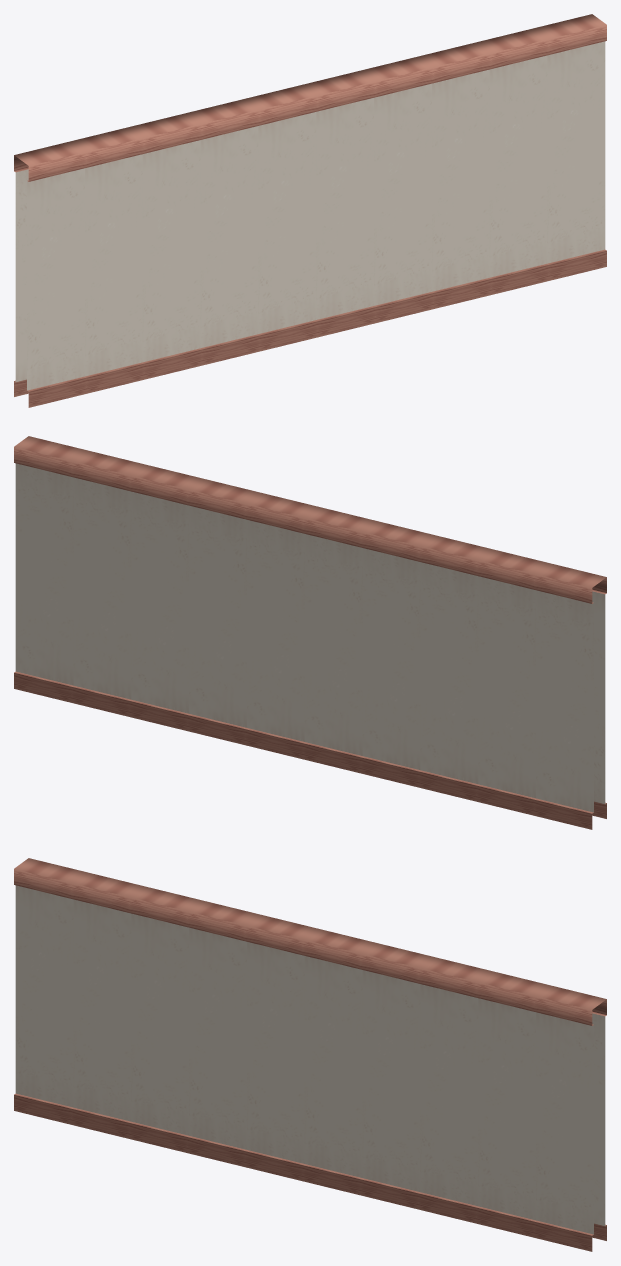
File: paret_base_x10.fbx
The picture shows the model from 3 angles, top to bottom: view 1: azimuth 30°, elevation 25°; view 2: azimuth 150°, elevation 25°; view 3: azimuth 330°, elevation 25°; orthographic projection.
Visible parts, largest first — view 1: Pared_Base_x10; view 2: Pared_Base_x10; view 3: Pared_Base_x10.
Part boxes in pixels (<box>): Pared_Base_x10: <box>14,14,606,407</box>; Pared_Base_x10: <box>14,436,606,829</box>; Pared_Base_x10: <box>14,858,606,1251</box>.
Bounding box in the file's own units: 1000 × 400 × 44.
